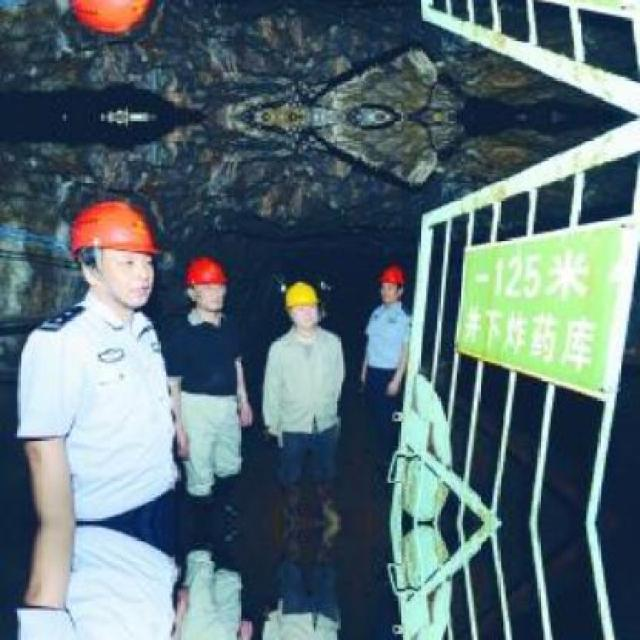helmet: (59, 192, 159, 310), (58, 0, 160, 40), (182, 250, 227, 313), (283, 277, 323, 332), (370, 261, 404, 302)
